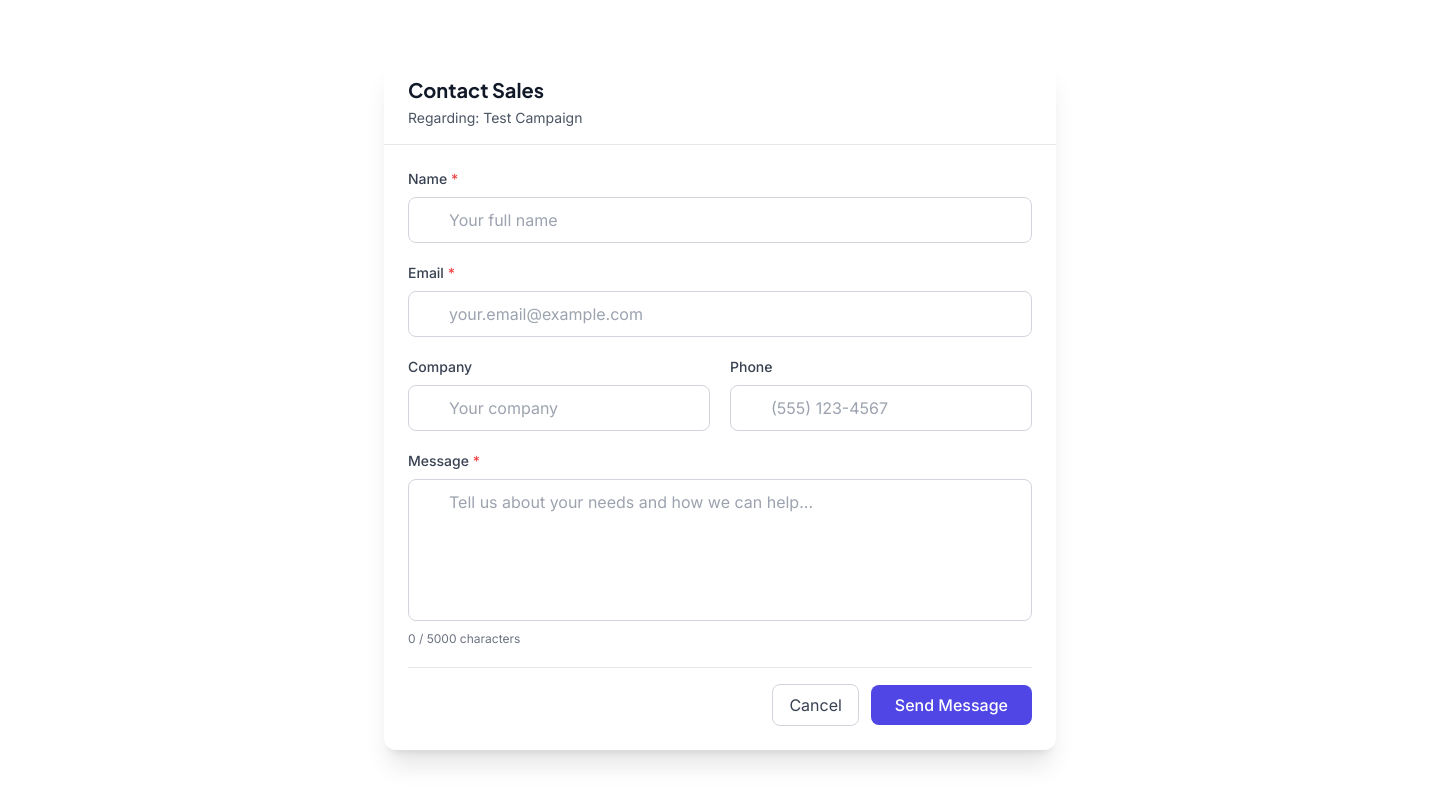
Scenario: ContactSalesModal › validates required fields
Click the button "Send Message" at x=951, y=705, box [871,685,1032,725]
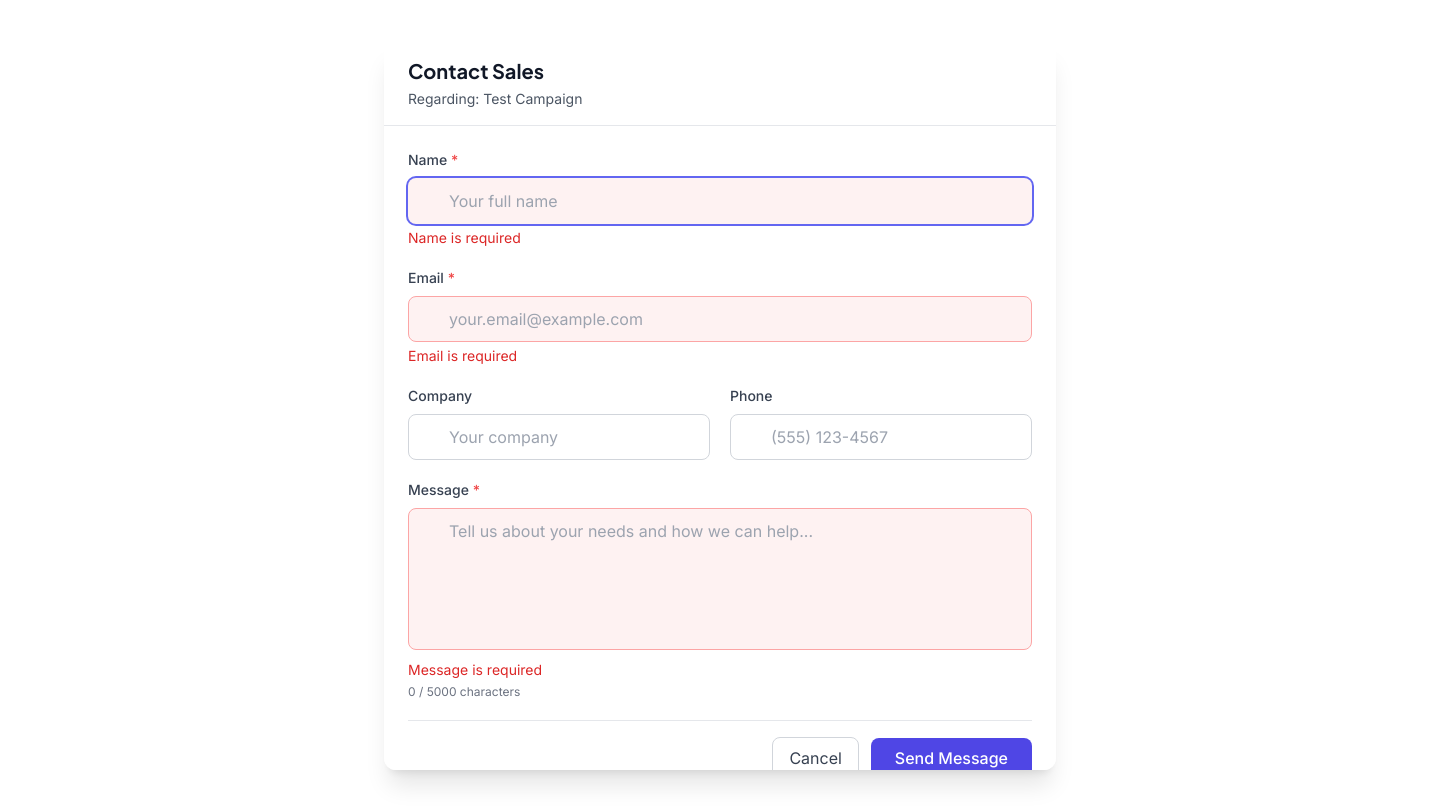
Now the text "Name is required" is shown, box [408,228,521,246]
Now the text "Email is required" is shown, box [408,346,517,364]
Now the text "Message is required" is shown, box [408,660,542,678]
